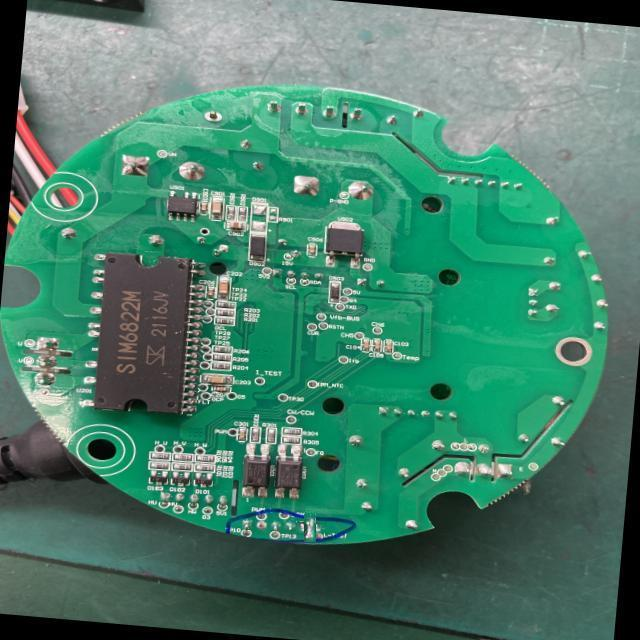damged: (300, 517, 321, 538)
